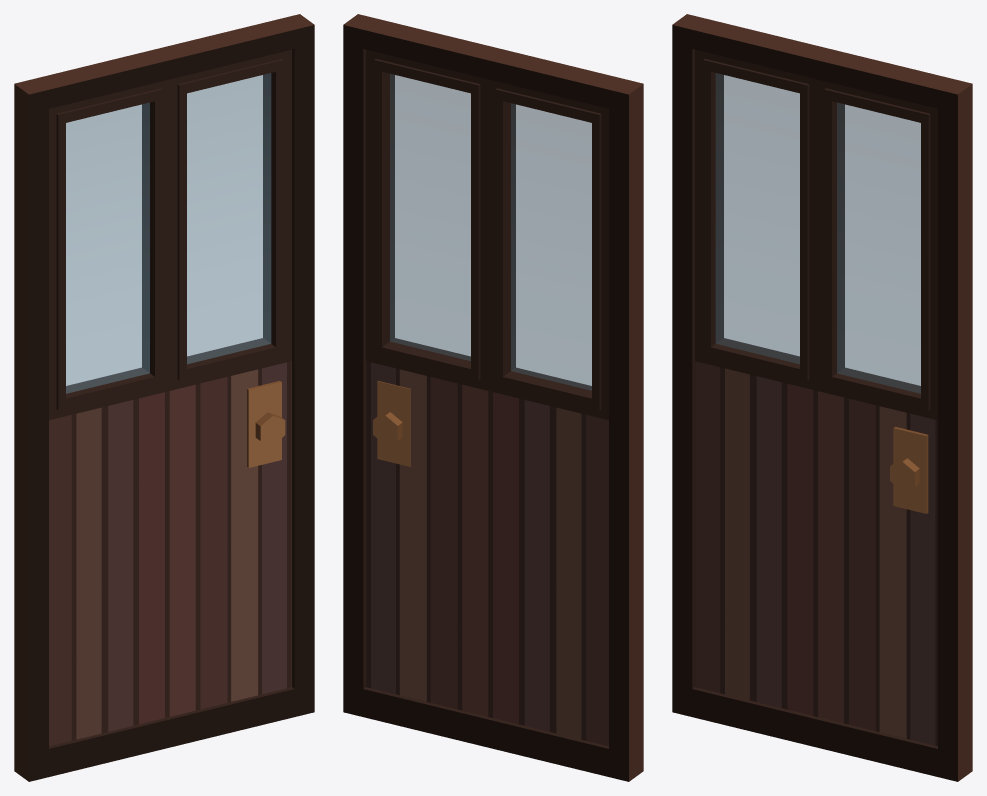
The model's file is Door 10.glb.
3 views of the same model, side by side, from view 1: azimuth 30°, elevation 25°; view 2: azimuth 150°, elevation 25°; view 3: azimuth 330°, elevation 25° (orthographic).
Visible parts, largest first — view 1: Door 10A; view 2: Door 10A; view 3: Door 10A.
Part boxes in pixels (x1,y1,x2,y2): Door 10A: (14,14,314,781); Door 10A: (343,14,643,781); Door 10A: (672,14,972,781).
Size of what is drawn, in the model's own units: 1 by 2.3 by 0.1703.
Materials: 3 (3 with a texture image).
